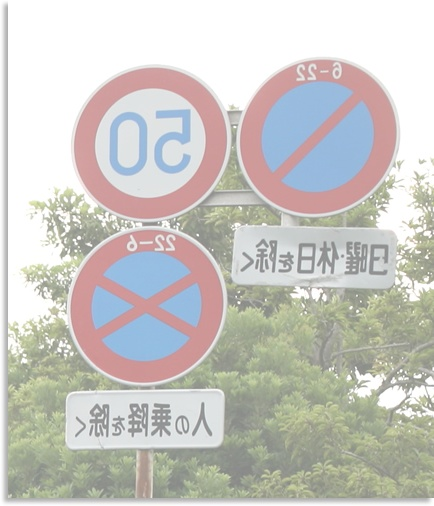Prohibition_sign: (232, 56, 416, 235), (49, 224, 247, 380)
